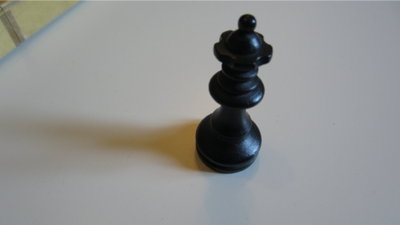black-queen: (193, 13, 274, 176)
